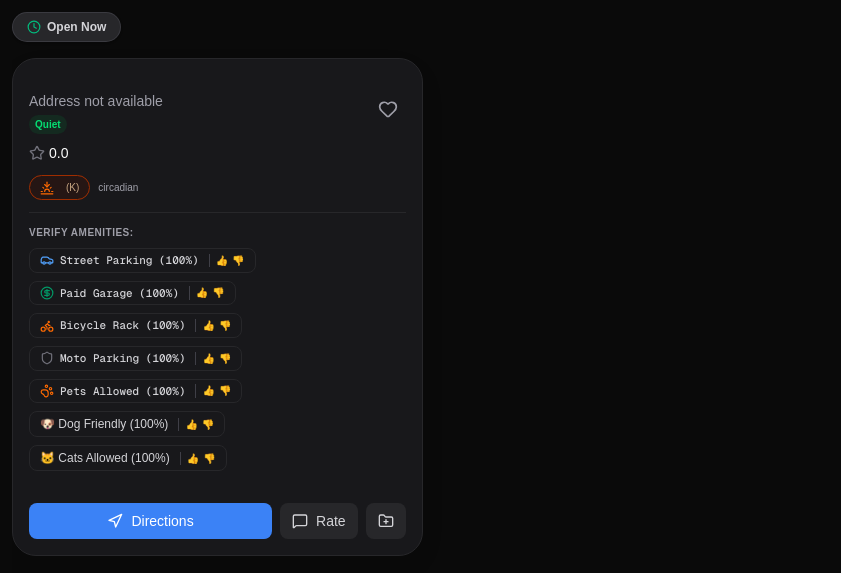
VenueList Component Suite › Venue Grid & Filters › displays appropriate empty message when Open Now yields zero results
Click the button with test id "open-now-filter-chip" at (67, 27), box [12,12,121,42]
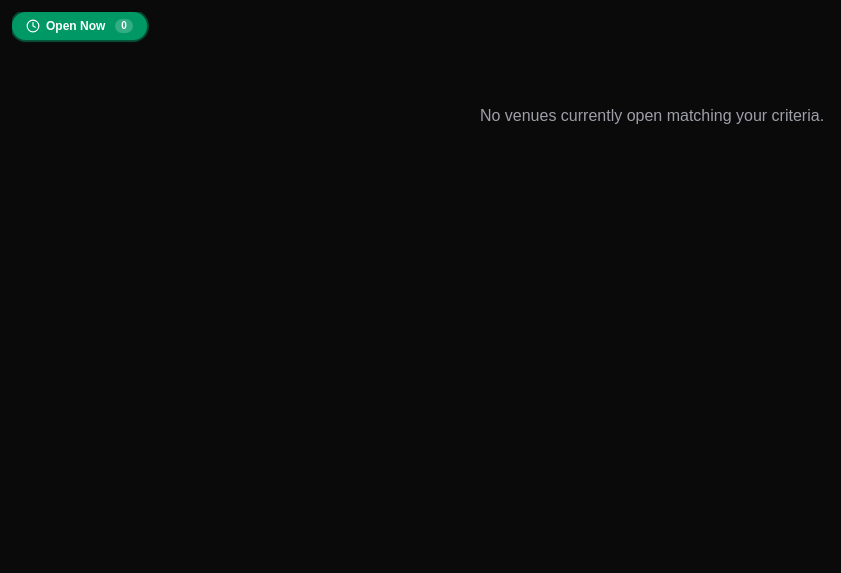
Expected: the text with test id "venue-list-empty" reads "No venues currently open matching your criteria.", [480,107,824,124]
